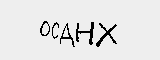Д: (57, 20, 73, 48)
Н: (74, 19, 95, 46)
О: (38, 18, 51, 38)
С: (50, 19, 60, 42)
Х: (97, 20, 119, 47)
